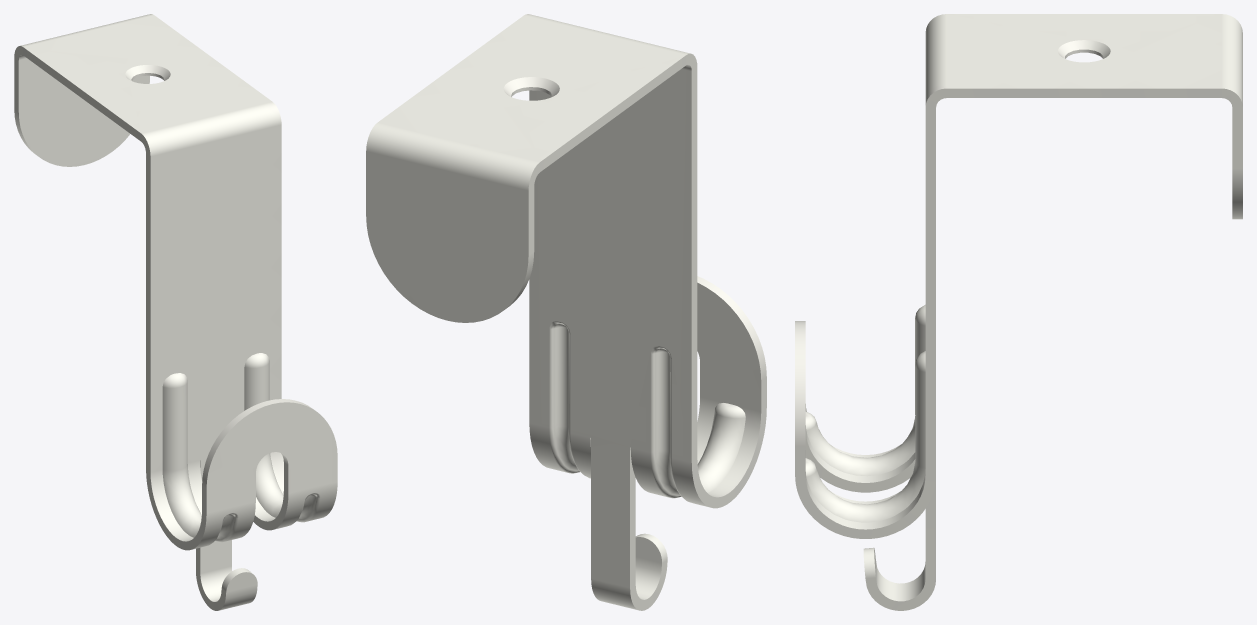
File: Sekiner60498110.glb
The picture shows the model from 3 angles, left to right: view 1: azimuth 30°, elevation 25°; view 2: azimuth 150°, elevation 25°; view 3: azimuth 270°, elevation 25°; orthographic projection. The views are drawn at different scales.
Visible parts, largest first — view 1: model; view 2: model; view 3: model.
Part boxes in pixels (<box>): model: <box>14,14,337,610</box>; model: <box>366,14,766,610</box>; model: <box>795,14,1242,610</box>.
Size of the model in its own units: 0.025 by 0.0862 by 0.0635.
Materials: 1 (1 with a texture image).
